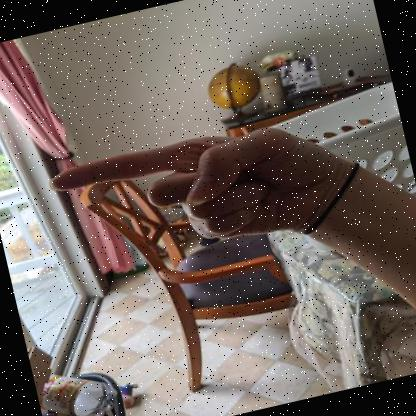G: (49, 128, 357, 239)
